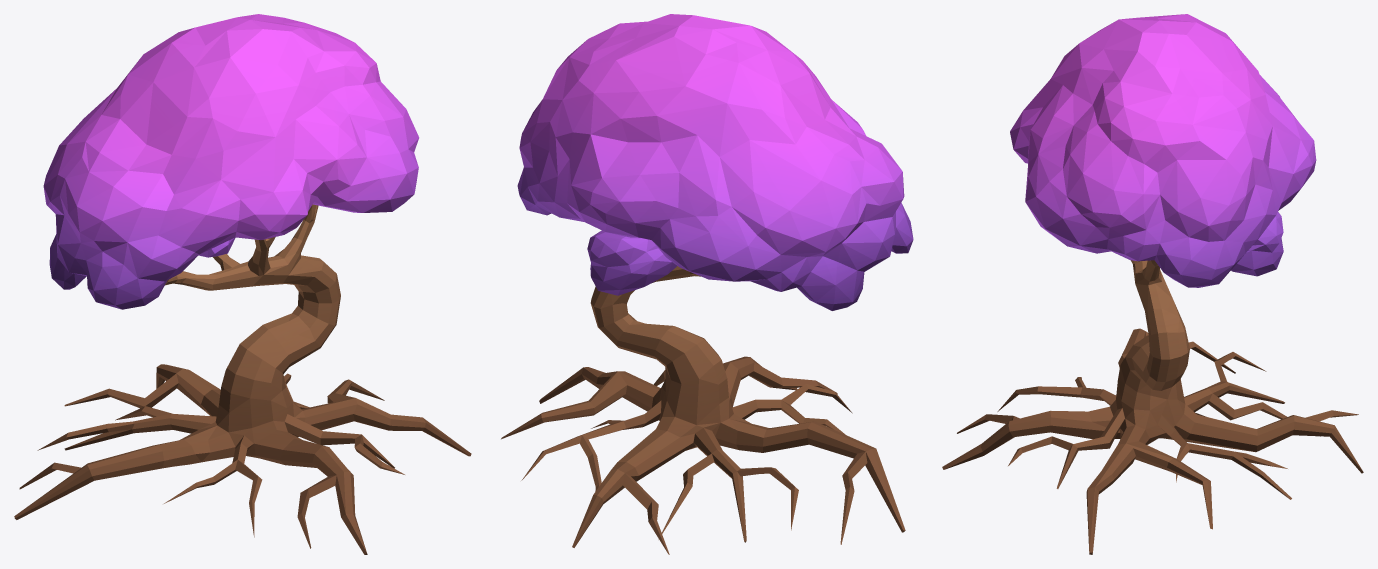
File: Tree_common_purple_05.fbx
3 views of the same model, side by side, from view 1: azimuth 30°, elevation 25°; view 2: azimuth 150°, elevation 25°; view 3: azimuth 270°, elevation 25° (orthographic). The views are drawn at different scales.
Visible parts, largest first — view 1: Tree_common_purple_05; view 2: Tree_common_purple_05; view 3: Tree_common_purple_05.
Part boxes in pixels (<box>): Tree_common_purple_05: <box>14,14,471,554</box>; Tree_common_purple_05: <box>501,14,913,554</box>; Tree_common_purple_05: <box>942,14,1363,554</box>.
Size of the model in its own units: 1203 by 1265 by 1103.
